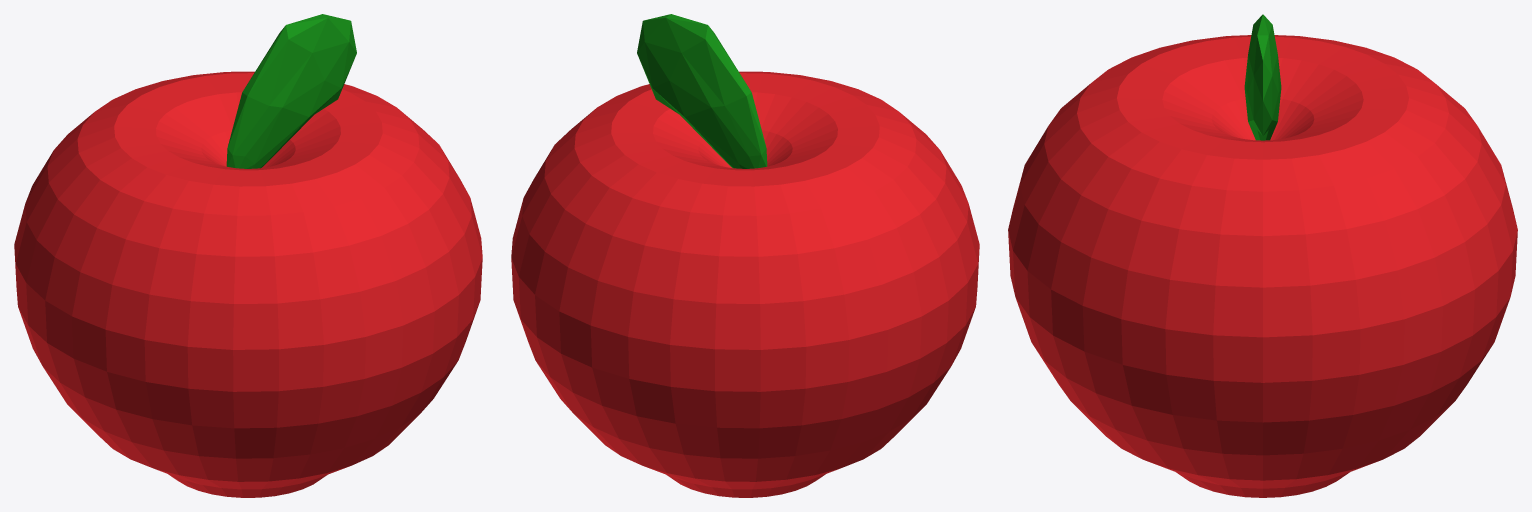
File: apple.glb
3 views of the same model, side by side, from view 1: azimuth 30°, elevation 25°; view 2: azimuth 150°, elevation 25°; view 3: azimuth 270°, elevation 25° (orthographic). The views are drawn at different scales.
Parts seen in each view (by area): view 1: Sphere, Icosphere; view 2: Sphere, Icosphere; view 3: Sphere, Icosphere.
Boxes of the visible parts, left/top/right/bottom form: Sphere: left=14, top=71, right=482, bottom=497; Icosphere: left=226, top=14, right=356, bottom=168; Sphere: left=511, top=71, right=979, bottom=497; Icosphere: left=637, top=14, right=767, bottom=168; Sphere: left=1008, top=35, right=1517, bottom=497; Icosphere: left=1244, top=14, right=1281, bottom=140.
Bounding box in the file's own units: 0.9624 × 0.9826 × 0.9624.
